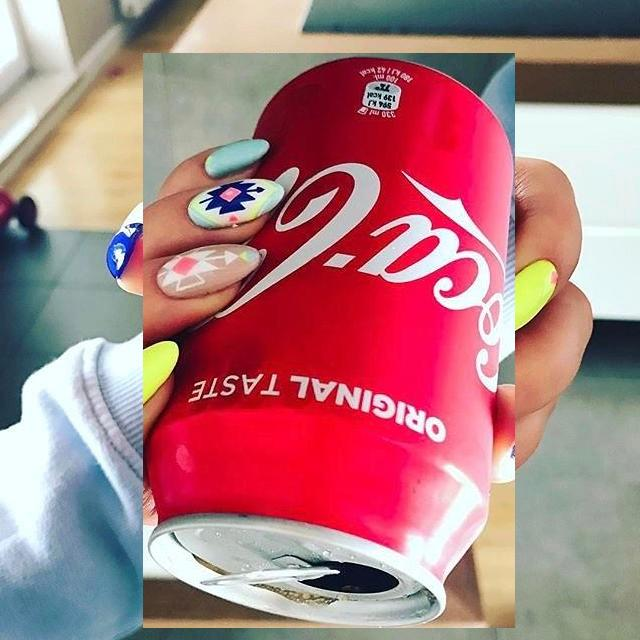coca-cola: (143, 53, 515, 628)
